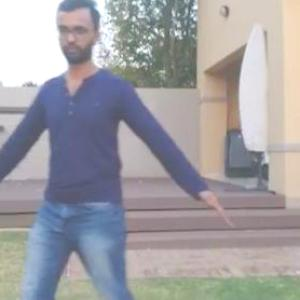land: (0, 14, 234, 299)
